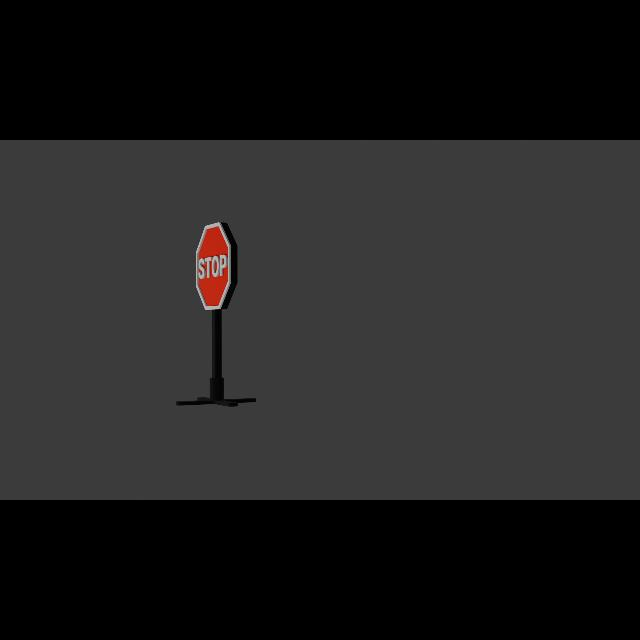sign_stop: (196, 223, 235, 312)
